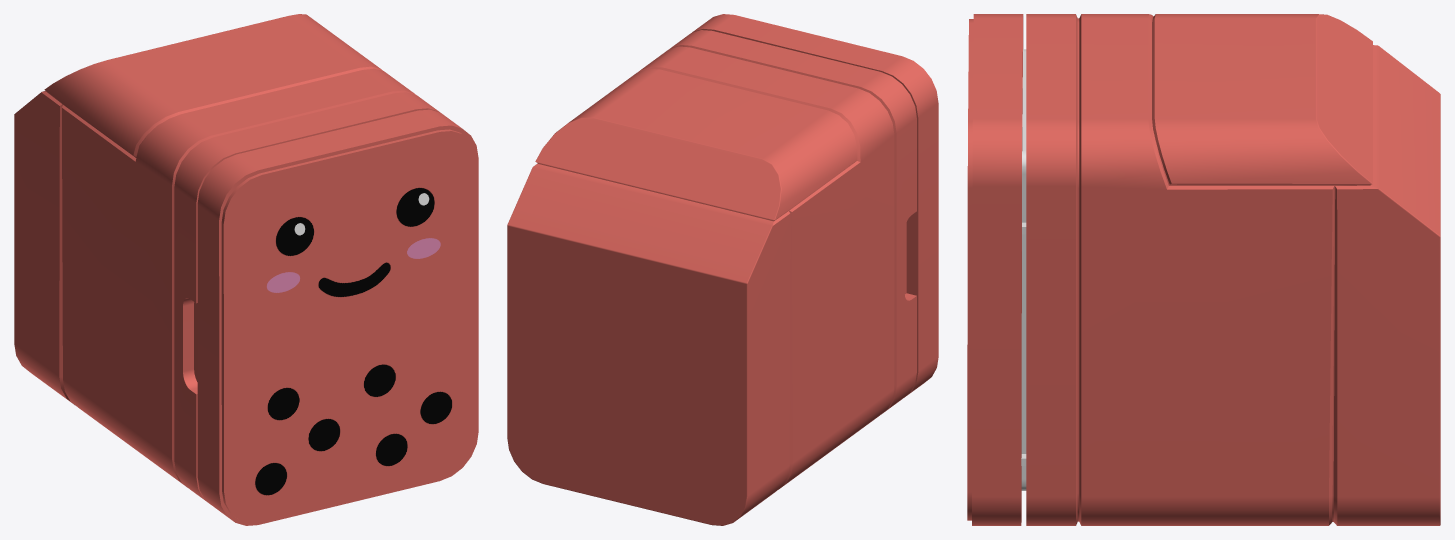
The model's file is Mini_Fridge (1).fbx.
The picture shows the model from 3 angles, left to right: view 1: azimuth 30°, elevation 25°; view 2: azimuth 150°, elevation 25°; view 3: azimuth 270°, elevation 25°; orthographic projection. The views are drawn at different scales.
Parts seen in each view (by area): view 1: FridgeDoor, FridgeBody; view 2: FridgeBody, FridgeDoor; view 3: FridgeBody, FridgeDoor.
Boxes of the visible parts, box(x1,y1,x2,y2) form: FridgeDoor: box(197, 109, 478, 525); FridgeBody: box(14, 14, 439, 504); FridgeBody: box(507, 30, 916, 525); FridgeDoor: box(692, 14, 938, 397); FridgeBody: box(1026, 14, 1440, 525); FridgeDoor: box(967, 14, 1026, 525).
Size of the model in its own units: 6.27 by 8.2 by 8.74.
2 materials, 2 textured.
